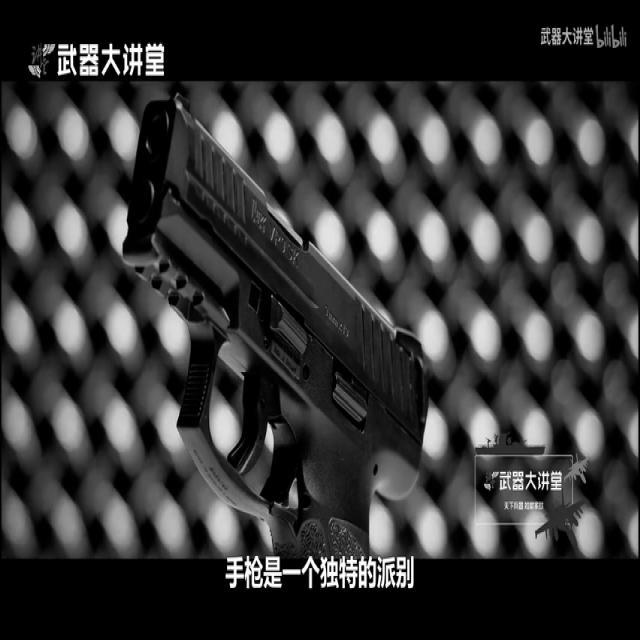Hand-Gun: (82, 0, 492, 640)
